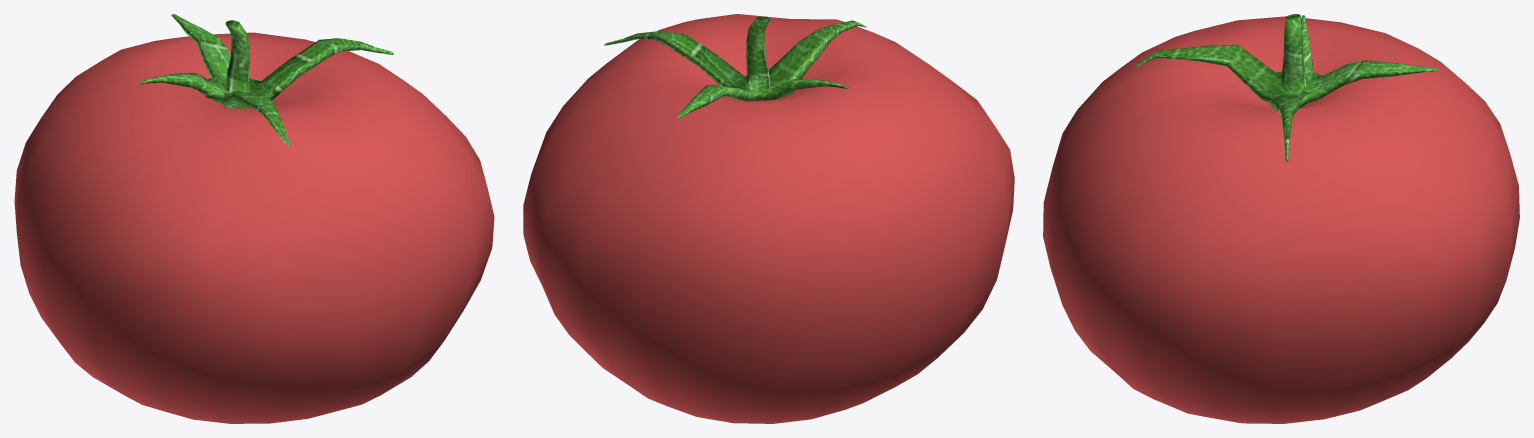
The model's file is Tomato.fbx.
3 renders of one model, left to right at view 1: azimuth 30°, elevation 25°; view 2: azimuth 150°, elevation 25°; view 3: azimuth 270°, elevation 25°, orthographic. The views are drawn at different scales.
Parts seen in each view (by area): view 1: pSphere1; view 2: pSphere1; view 3: pSphere1.
Boxes of the visible parts, left/top/right/bottom form: pSphere1: left=14, top=14, right=494, bottom=423; pSphere1: left=523, top=14, right=1014, bottom=423; pSphere1: left=1043, top=14, right=1519, bottom=423.
Size of the model in its own units: 12.09 by 10.33 by 12.05.
